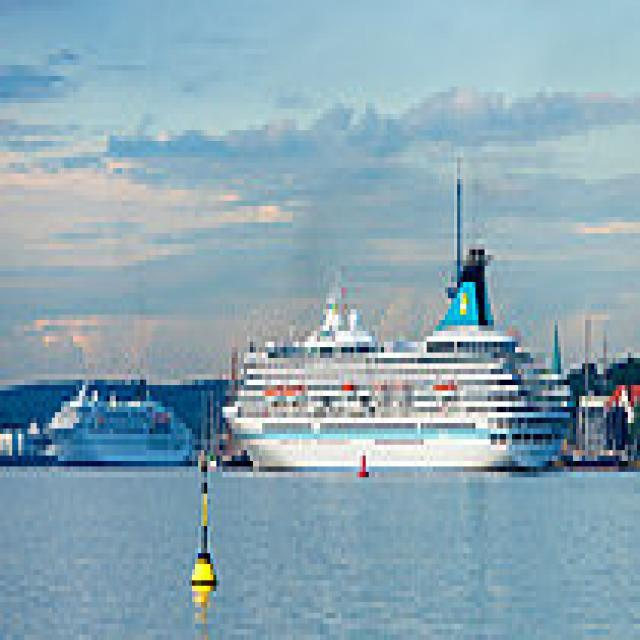Ship: (218, 310, 602, 500)
